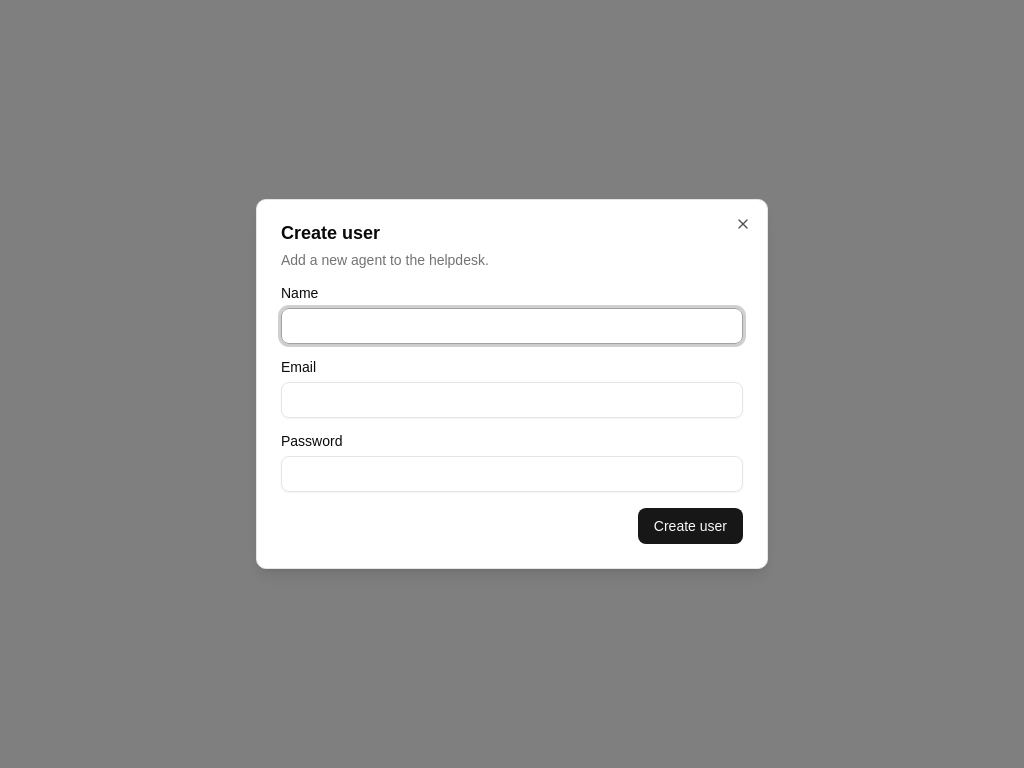
Test: UserFormDialog (create mode) › shows a server error message when creation fails
The image size is (1024, 768).
Type "Alice Wong" into the field labelled "Name" at point(512, 326), box [281,308,743,344]
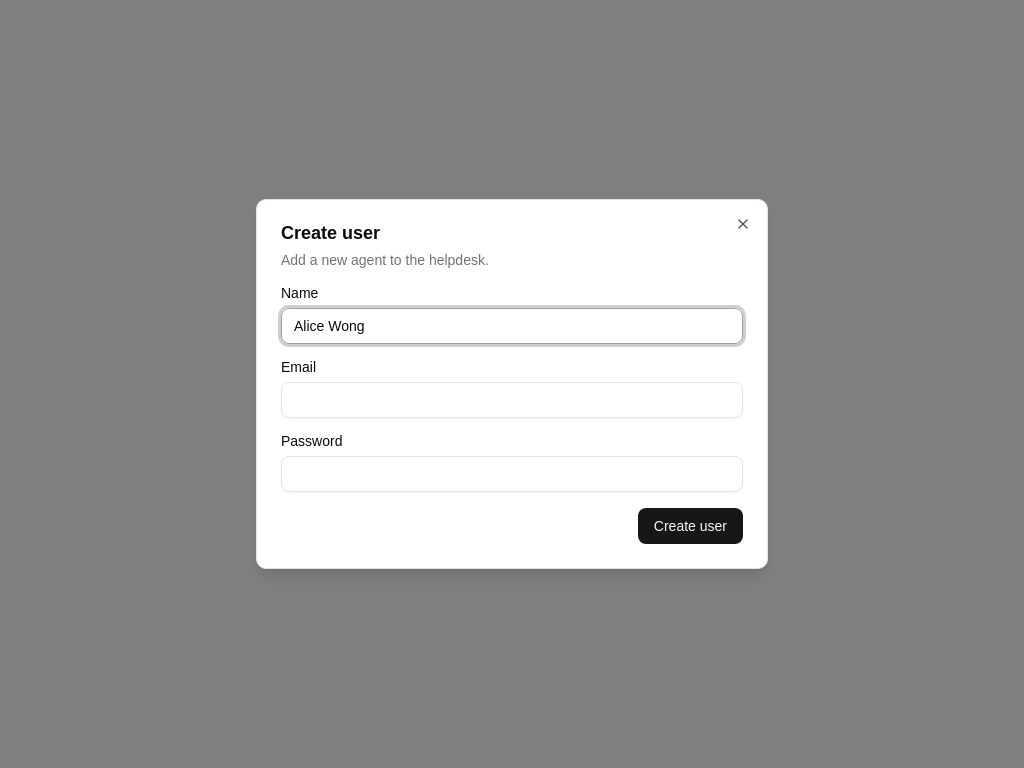
Type "alice@example.com" into the field labelled "Email" at point(512, 400), box [281,382,743,418]
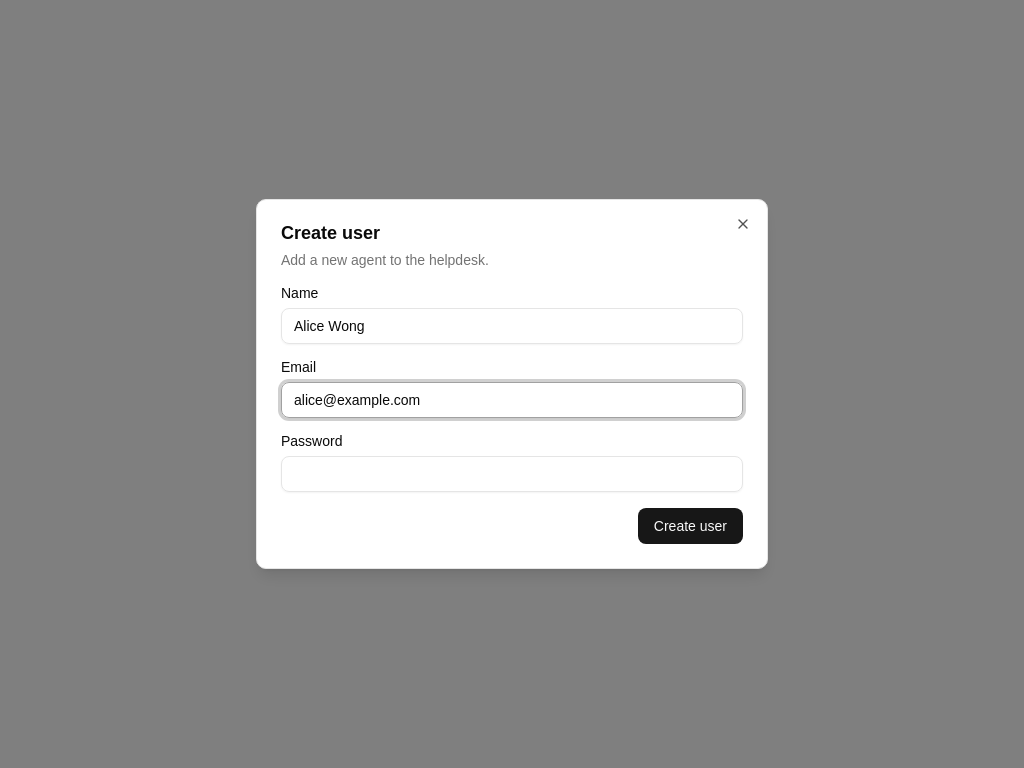
Type "password123" into the password field labelled "Password" at point(512, 474), box [281,456,743,492]
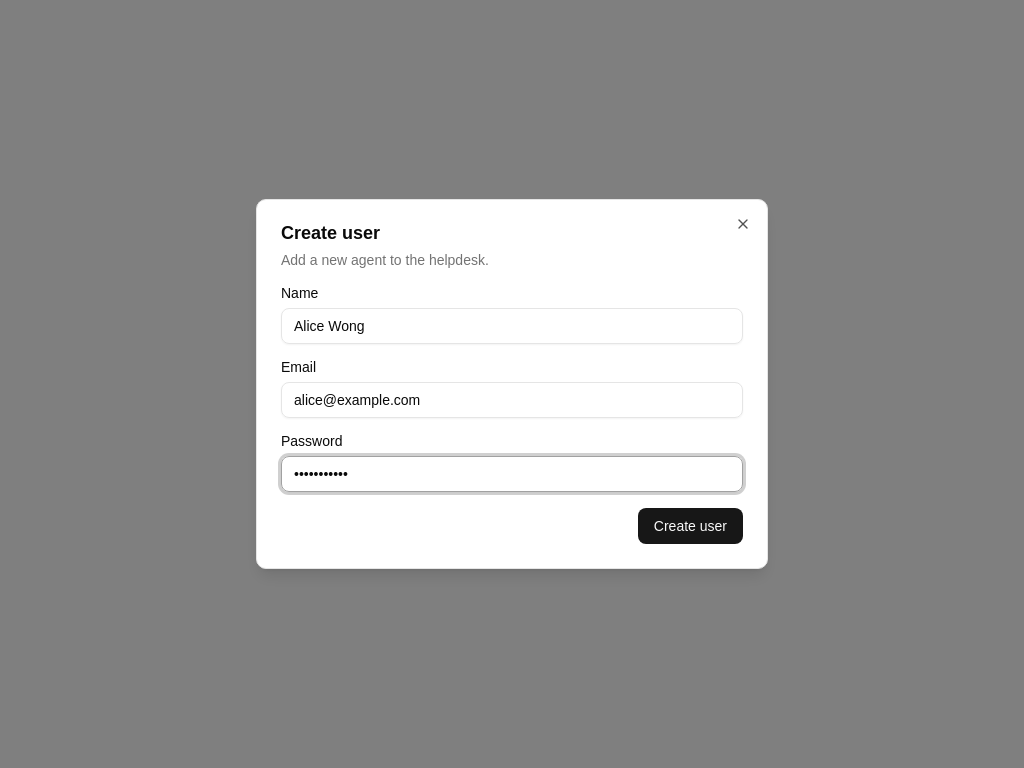
Click the button "Create user" at point(690, 526), box [638,508,743,544]
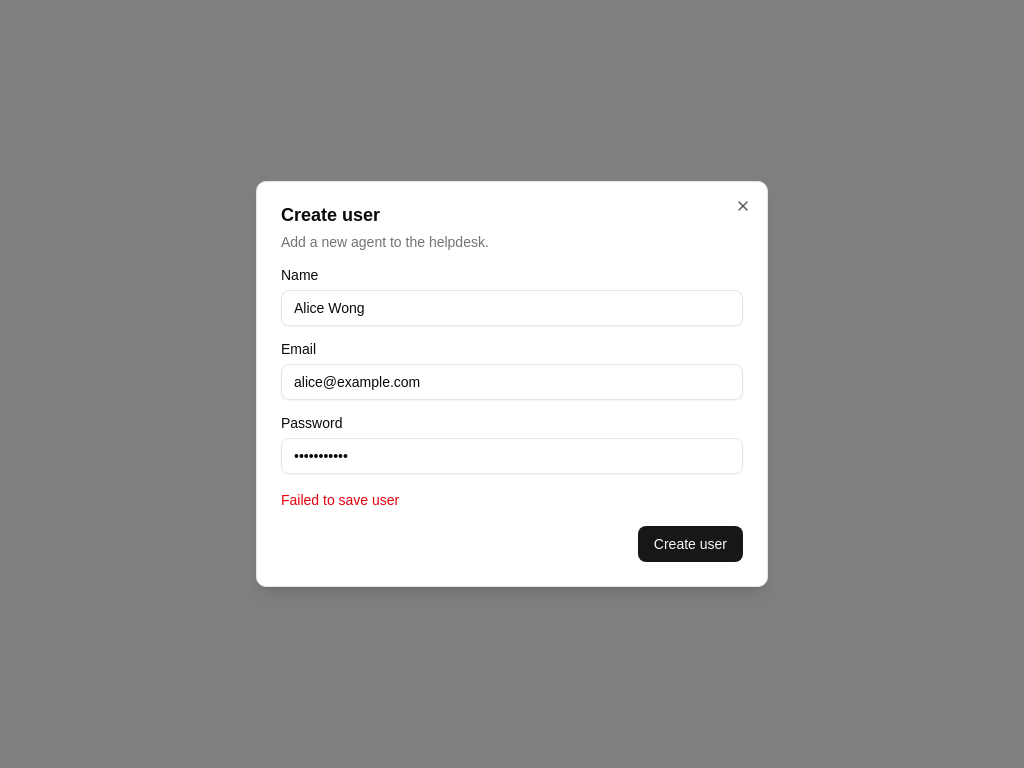
Now the text "Failed to save user" is shown, box [281,492,399,508]
